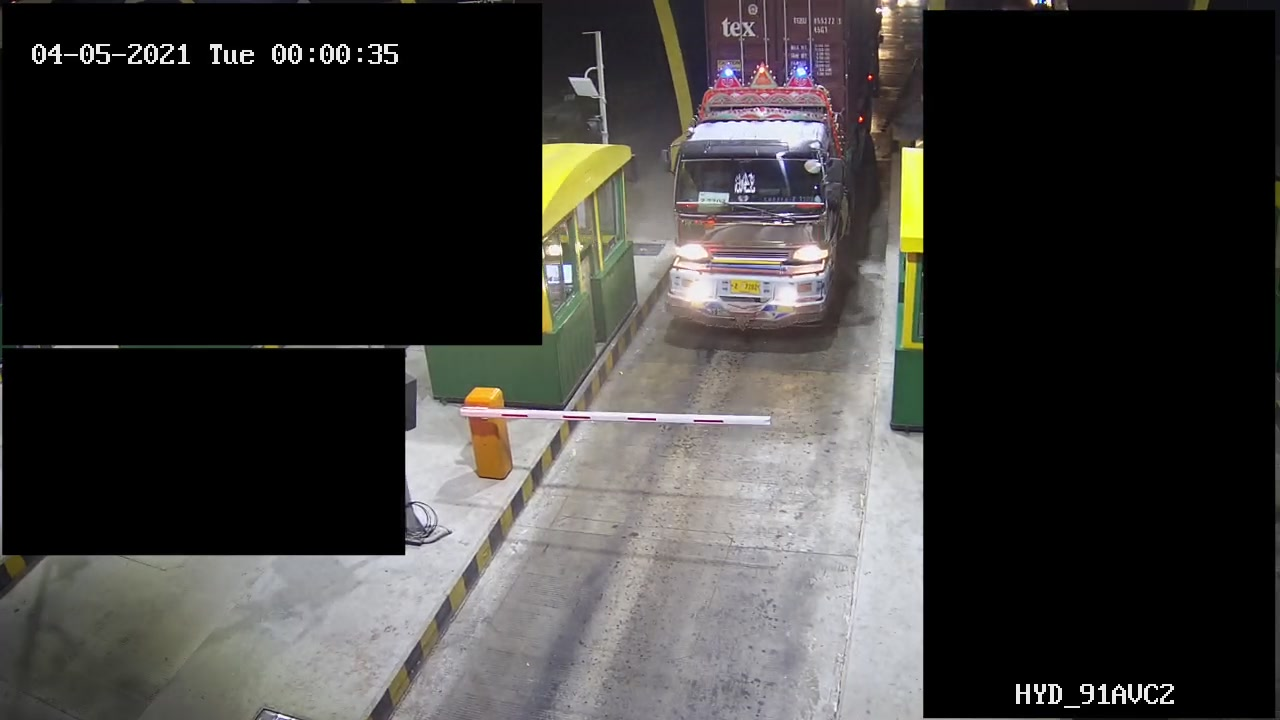F6: (654, 1, 881, 354)
